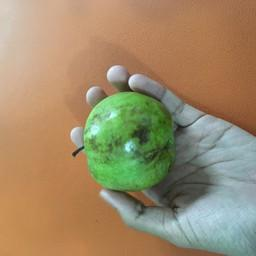Bad_apple: (81, 96, 174, 192), (120, 248, 255, 255)
